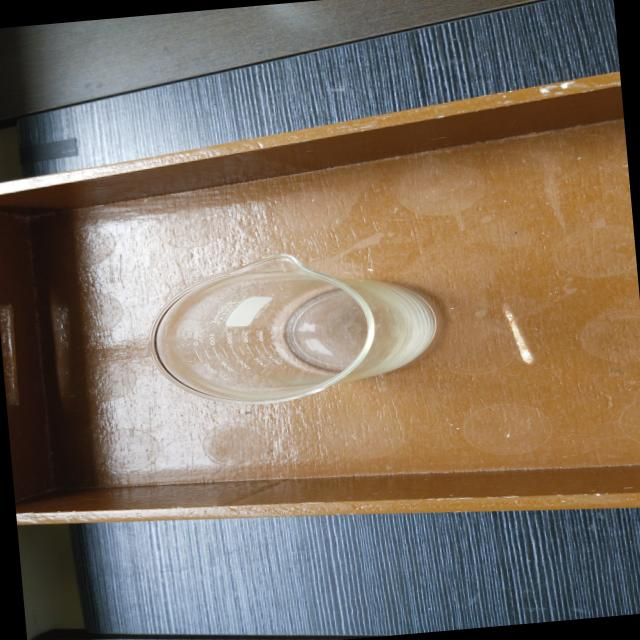beaker: (140, 234, 450, 415)
